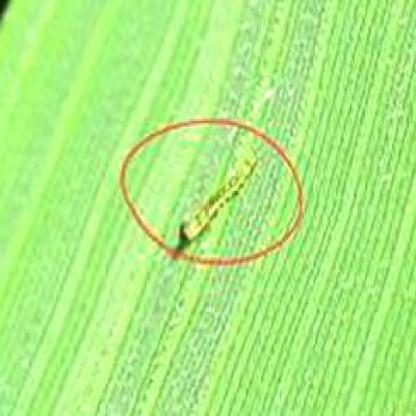leaf-folder: (166, 132, 280, 258)
